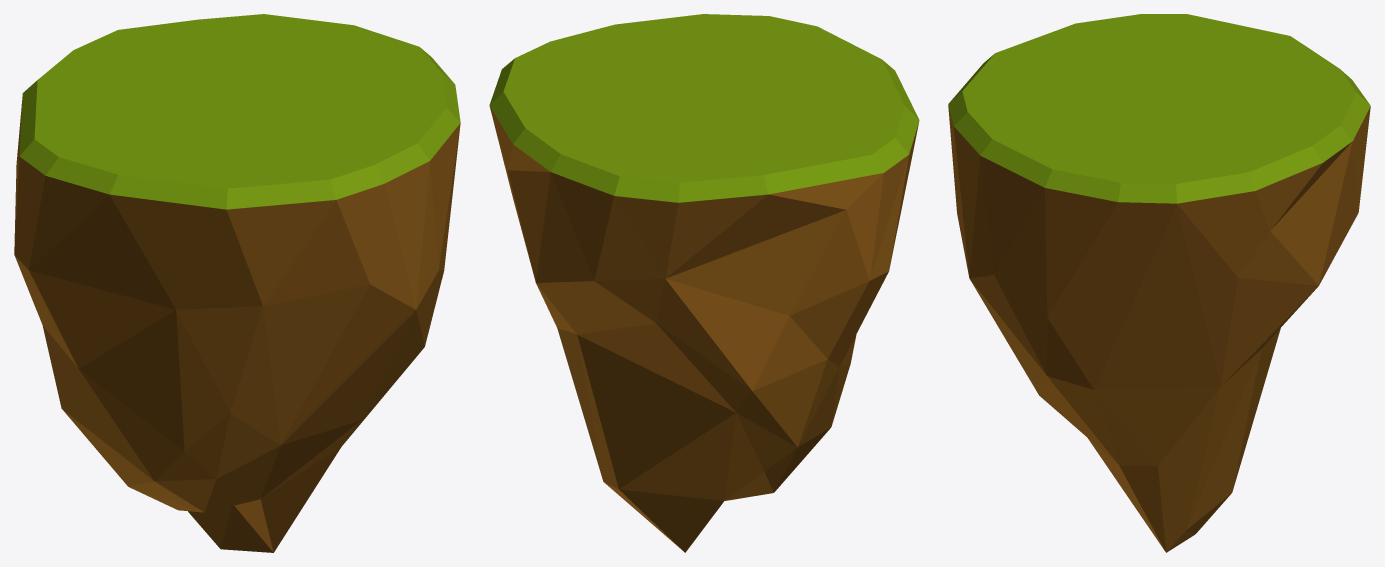
Rendered from Flatshadedisland4.fbx.
3 renders of one model, left to right at view 1: azimuth 30°, elevation 25°; view 2: azimuth 150°, elevation 25°; view 3: azimuth 270°, elevation 25°, orthographic. The views are drawn at different scales.
Parts seen in each view (by area): view 1: Cone, Cone.001, Cone.002; view 2: Cone, Cone.001, Cone.002; view 3: Cone, Cone.001, Cone.002.
Boxes of the visible parts, x1,y1,x2,y2 form: Cone: [14, 97, 460, 552]; Cone.001: [34, 14, 445, 188]; Cone.002: [19, 47, 460, 209]; Cone: [489, 106, 919, 552]; Cone.001: [503, 14, 904, 182]; Cone.002: [489, 58, 919, 202]; Cone: [948, 106, 1370, 552]; Cone.001: [962, 14, 1356, 183]; Cone.002: [948, 53, 1370, 203].
Size of the model in its own units: 1282 by 1407 by 1227.
